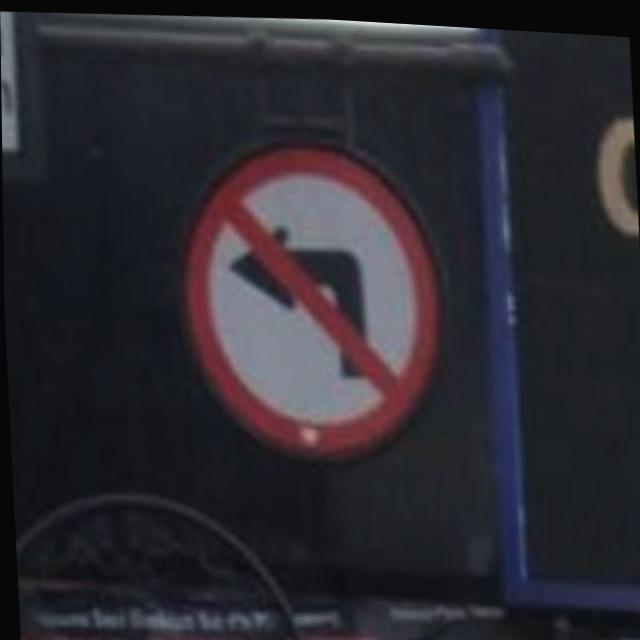Dilarang Belok Kiri: (187, 139, 440, 456)
